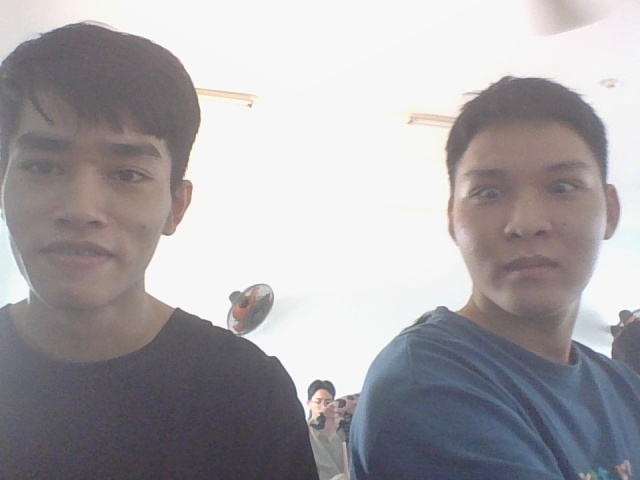real: (0, 7, 230, 333), (434, 59, 628, 334)
